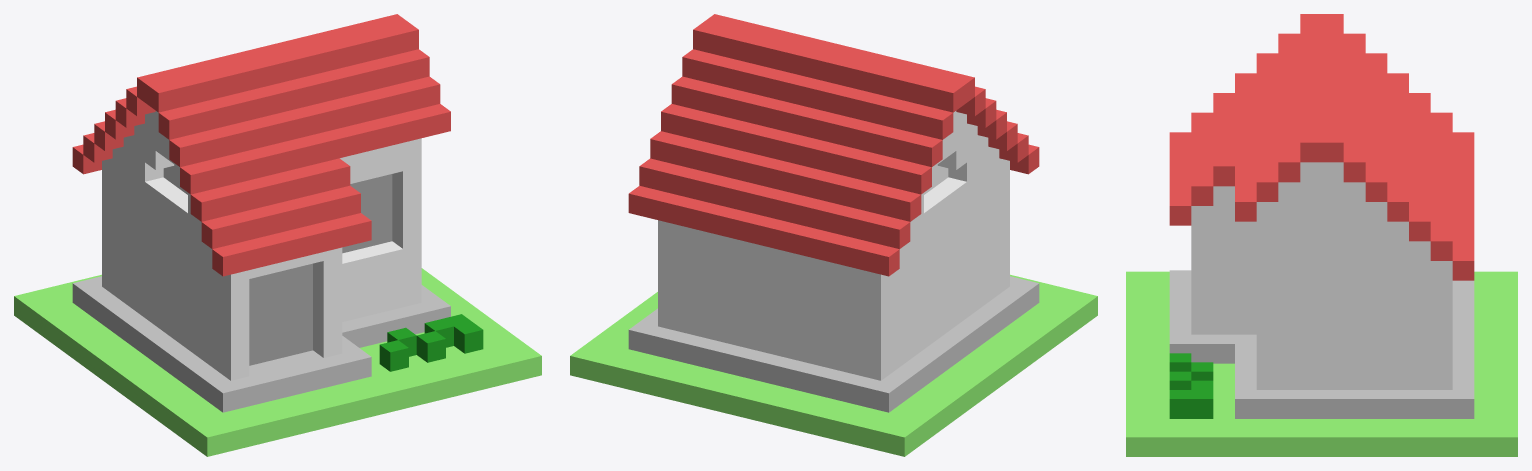
The picture shows the model from 3 angles, left to right: view 1: azimuth 30°, elevation 25°; view 2: azimuth 150°, elevation 25°; view 3: azimuth 270°, elevation 25°; orthographic projection.
Visible parts, largest first — view 1: ObjObject.003; view 2: ObjObject.003; view 3: ObjObject.003.
Part boxes in pixels (bbox=[...]): ObjObject.003: bbox=[14, 14, 541, 456]; ObjObject.003: bbox=[570, 14, 1097, 456]; ObjObject.003: bbox=[1126, 14, 1517, 456].
Size of the model in its own units: 1 by 1 by 0.8333.
